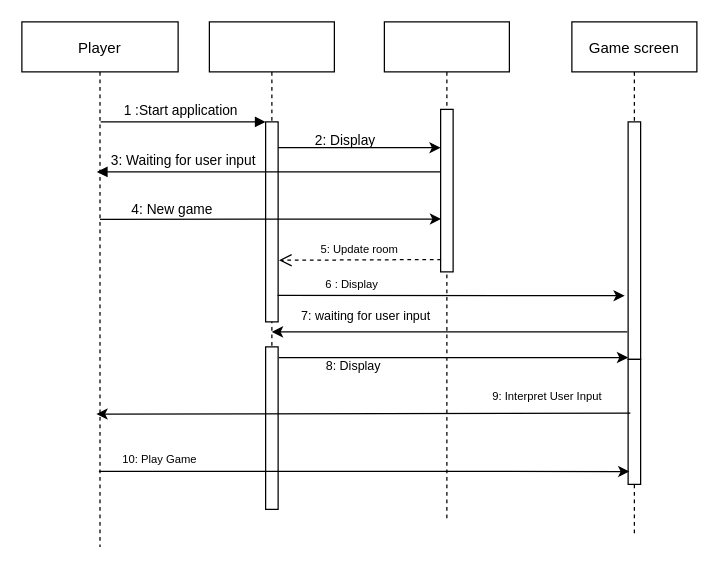
Image size: 719x569. Some labels were removed from this diagram. Each missing label, with the box of its shape:
Loading assets: (383, 21, 509, 522)
Menu room: (208, 21, 334, 509)
